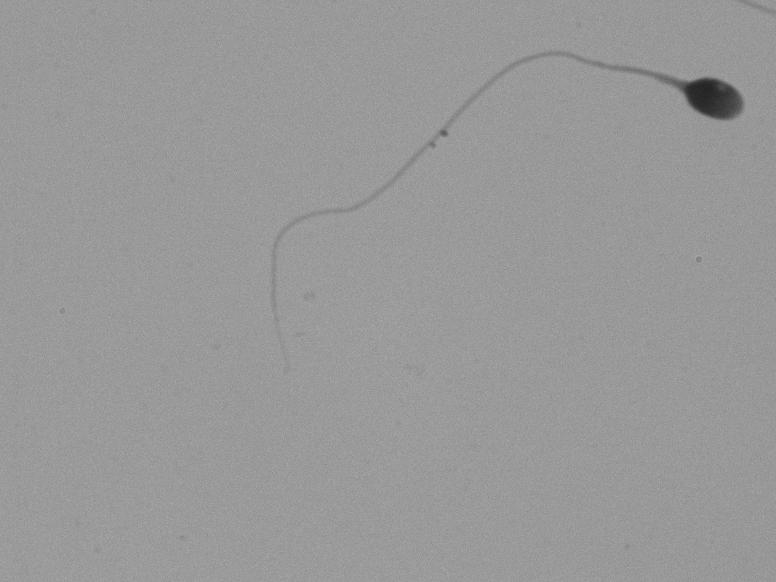Normal: (249, 32, 750, 366)
